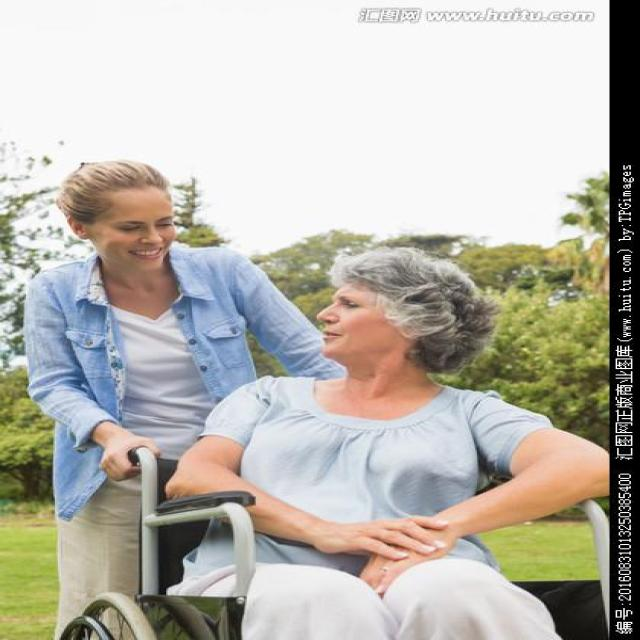wheelchairs: (42, 436, 612, 640)
